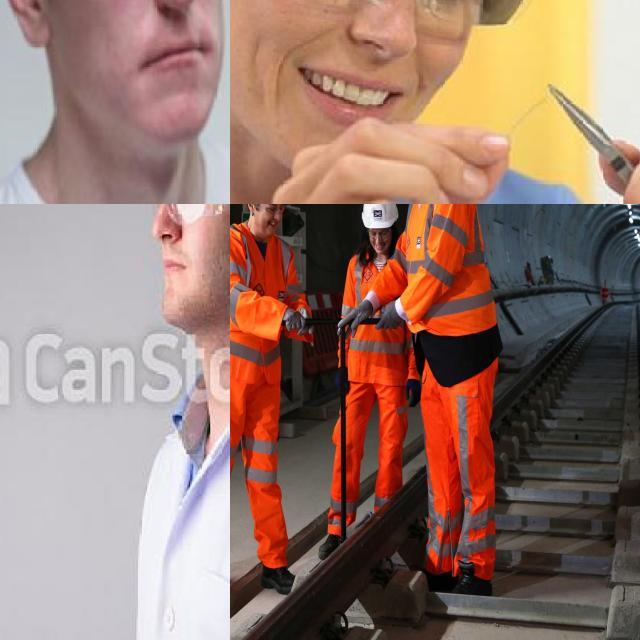No_Ear-Protection: (0, 0, 52, 47), (246, 204, 255, 214)
face_nomask: (278, 0, 492, 117), (82, 0, 230, 100), (143, 204, 216, 290), (254, 210, 282, 236), (370, 236, 391, 254)
glasses: (143, 204, 230, 230), (368, 227, 394, 239), (265, 204, 286, 215)
hand_glove: (338, 298, 373, 335), (375, 302, 405, 330), (283, 306, 310, 334), (405, 379, 422, 407)
hand_noglove: (270, 114, 516, 204)
head_helmet: (362, 204, 399, 229)
person: (98, 204, 230, 640), (0, 0, 230, 204)
